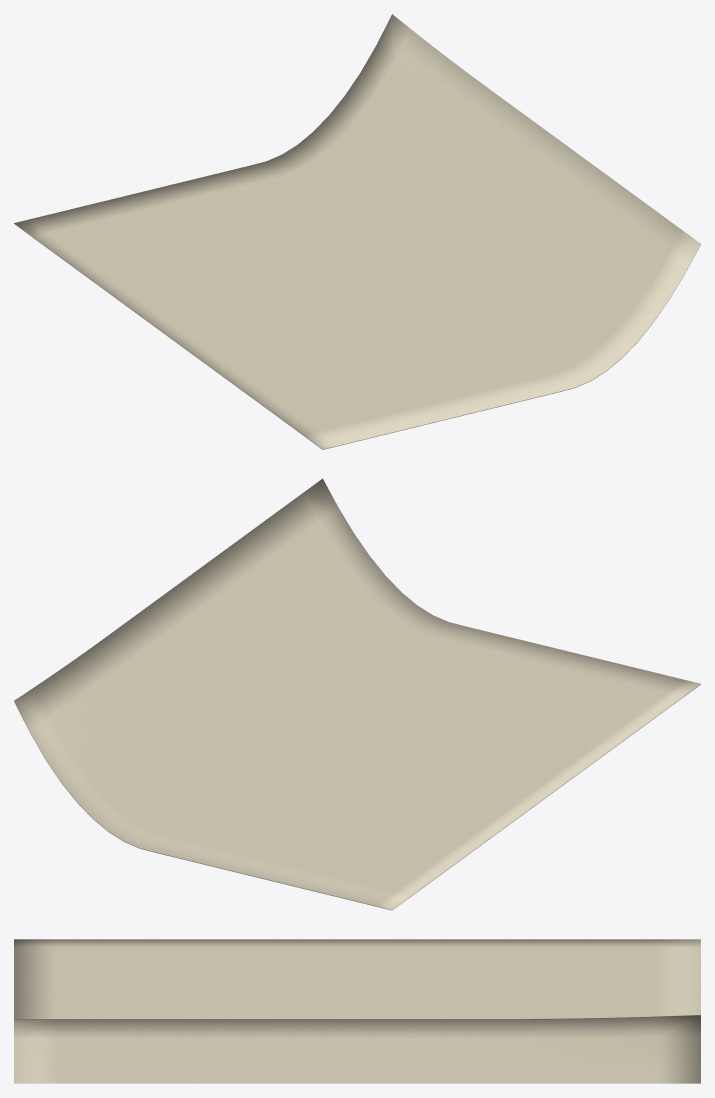
Rendered from fax_paper.glb.
3 views of the same model, one above another, from view 1: azimuth 30°, elevation 25°; view 2: azimuth 150°, elevation 25°; view 3: azimuth 270°, elevation 25° (orthographic). The views are drawn at different scales.
Visible parts, largest first — view 1: fax_paper__PaperSurface; view 2: fax_paper__PaperSurface; view 3: fax_paper__PaperSurface.
Part boxes in pixels (x1=…): fax_paper__PaperSurface: x1=14, y1=14, x2=700, y2=449; fax_paper__PaperSurface: x1=14, y1=478, x2=700, y2=910; fax_paper__PaperSurface: x1=14, y1=939, x2=700, y2=1083.
Bounding box in the file's own units: 0.21 × 0.0624 × 0.297.
2 materials, 2 textured.
